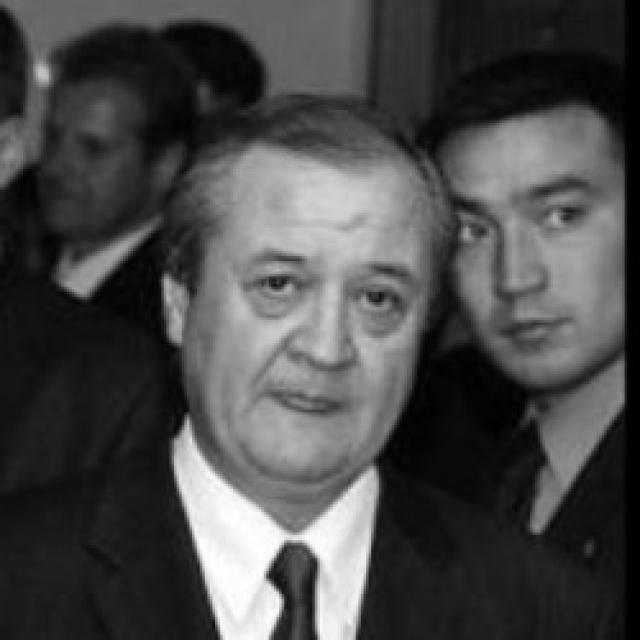real: (190, 156, 428, 494), (438, 80, 635, 391), (255, 256, 402, 321), (458, 202, 595, 246)
